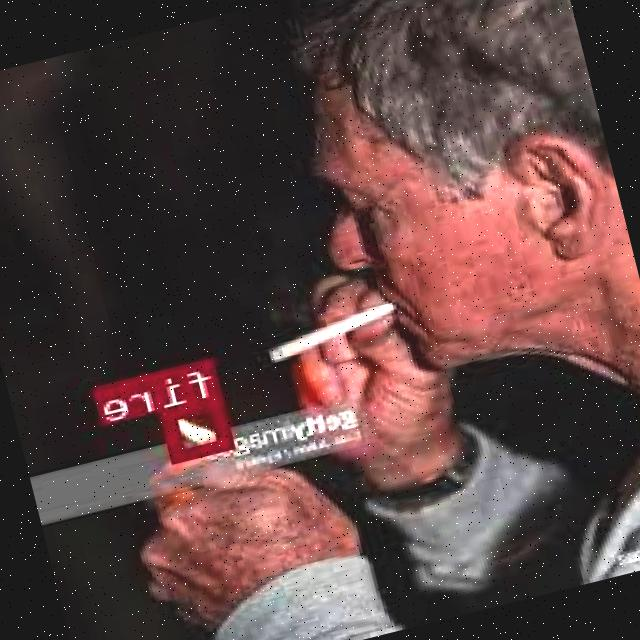fire: (164, 394, 236, 460)
